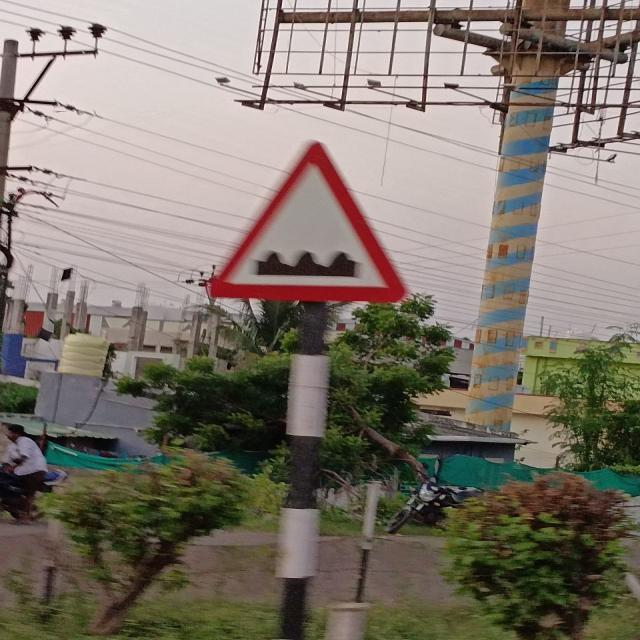hump or rough road: (210, 144, 407, 308)
